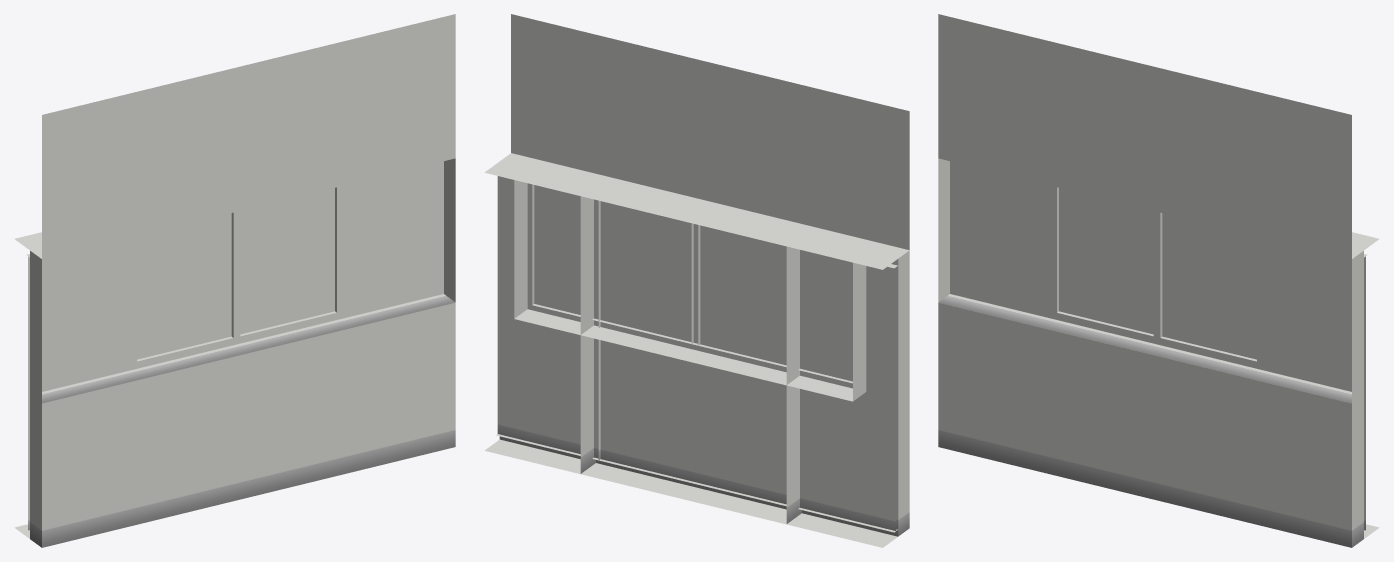
Rendered from bays_and_windows_pack_II.fbx.
The picture shows the model from 3 angles, left to right: view 1: azimuth 30°, elevation 25°; view 2: azimuth 150°, elevation 25°; view 3: azimuth 330°, elevation 25°; orthographic projection. The views are drawn at different scales.
Visible parts, largest first — view 1: modern_window_01, modern_bay_window_01_A, modern_bay_window_01_C; view 2: modern_window_01, modern_bay_window_01_A, modern_bay_window_01_C; view 3: modern_window_01, modern_bay_window_01_A, modern_bay_window_01_C.
Part boxes in pixels (<box>): modern_window_01: <box>30,14,455,547</box>; modern_bay_window_01_A: <box>30,14,455,547</box>; modern_bay_window_01_C: <box>14,159,455,538</box>; modern_window_01: <box>500,14,909,401</box>; modern_bay_window_01_A: <box>484,14,909,536</box>; modern_bay_window_01_C: <box>501,154,908,547</box>; modern_window_01: <box>938,14,1363,547</box>; modern_bay_window_01_A: <box>938,14,1379,538</box>; modern_bay_window_01_C: <box>1050,185,1363,547</box>.
Bounding box in the file's own units: 300 × 300 × 35.
